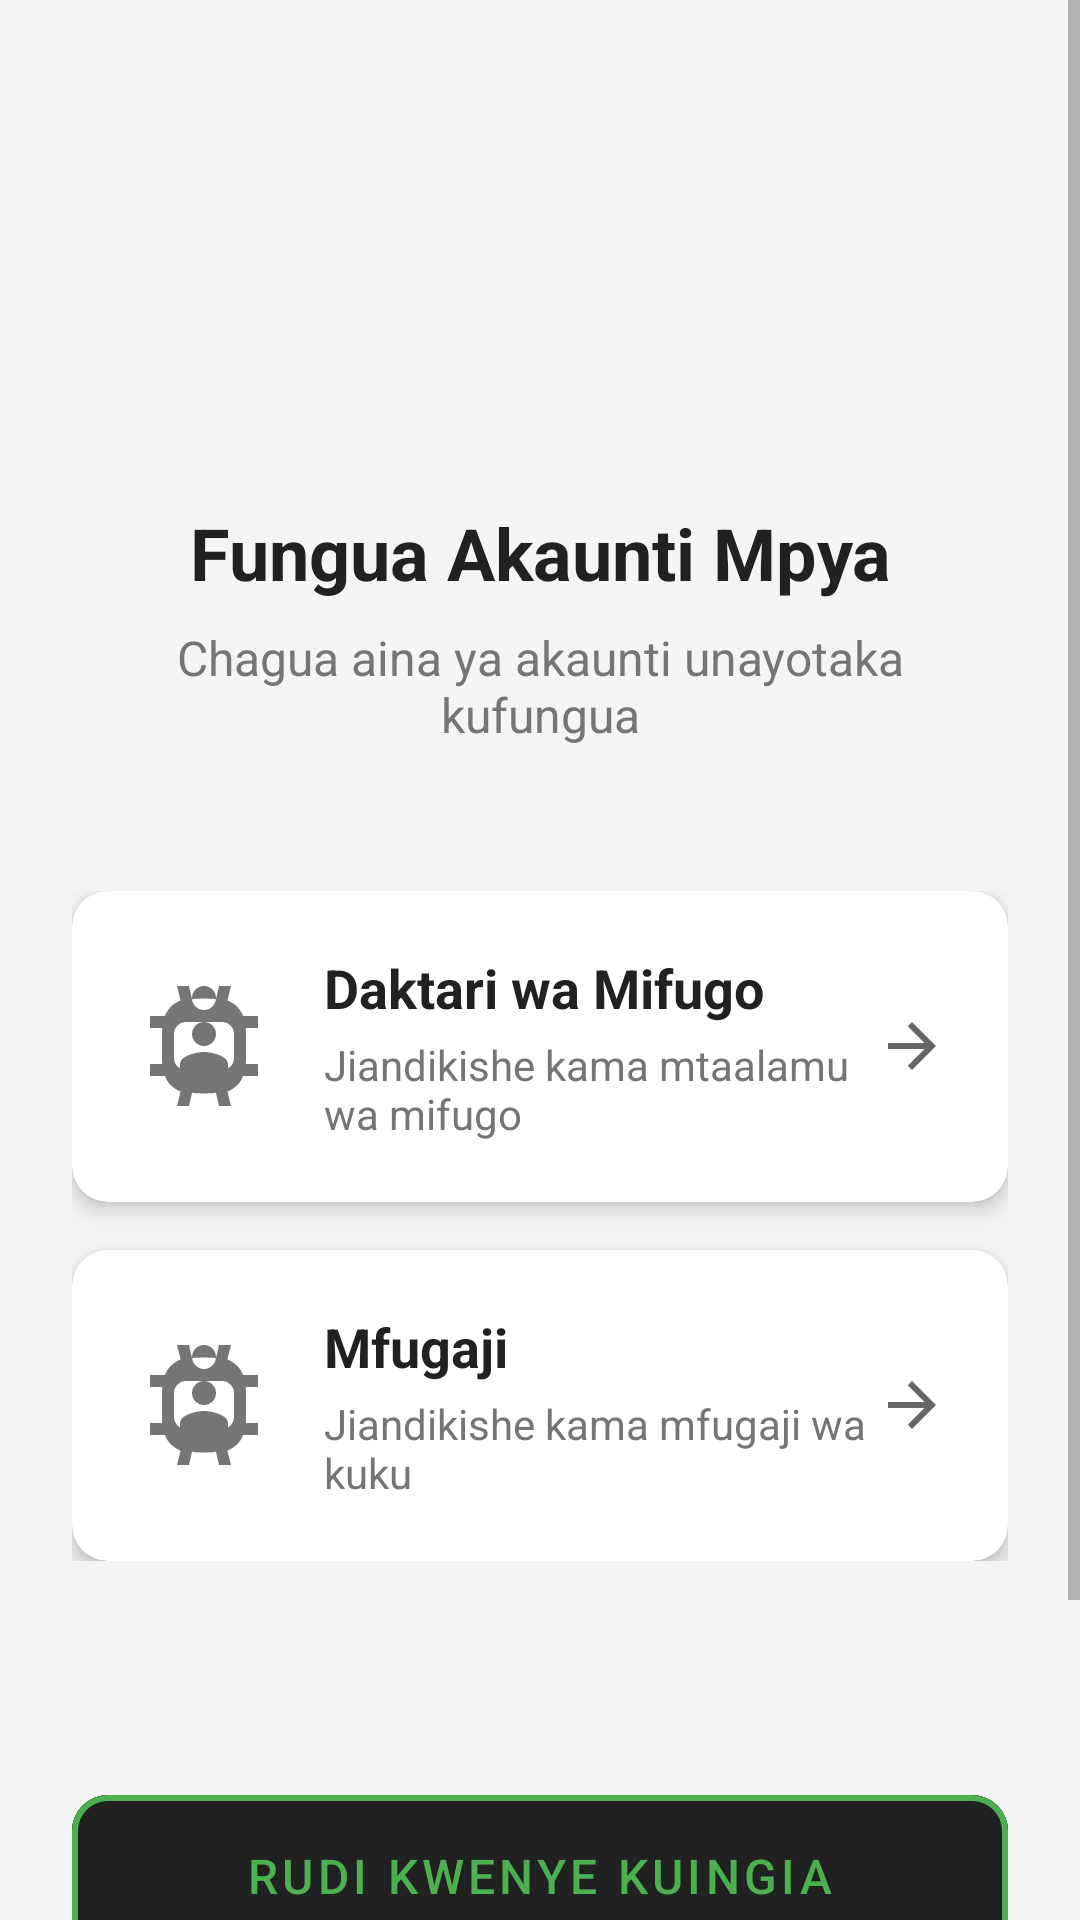

Named icons in this screenshot (1080 × 1920) and their bounding boxes, (x1, y1, x2, y2):
Navigate: (888, 1022, 936, 1070), (888, 1381, 936, 1429)
